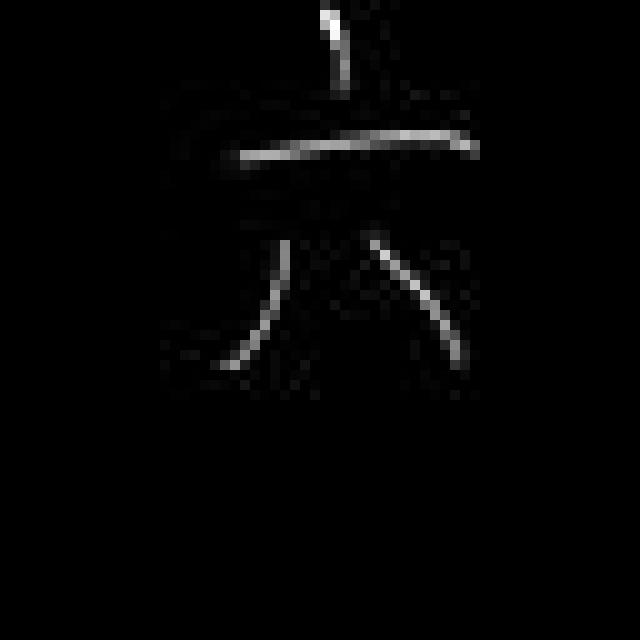6 -six-: (208, 0, 478, 382)
